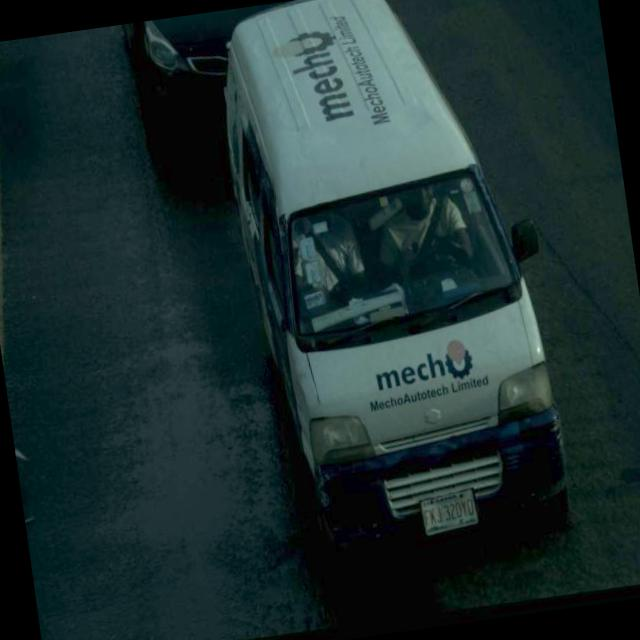person_with_seatbelt: (372, 178, 480, 287)
